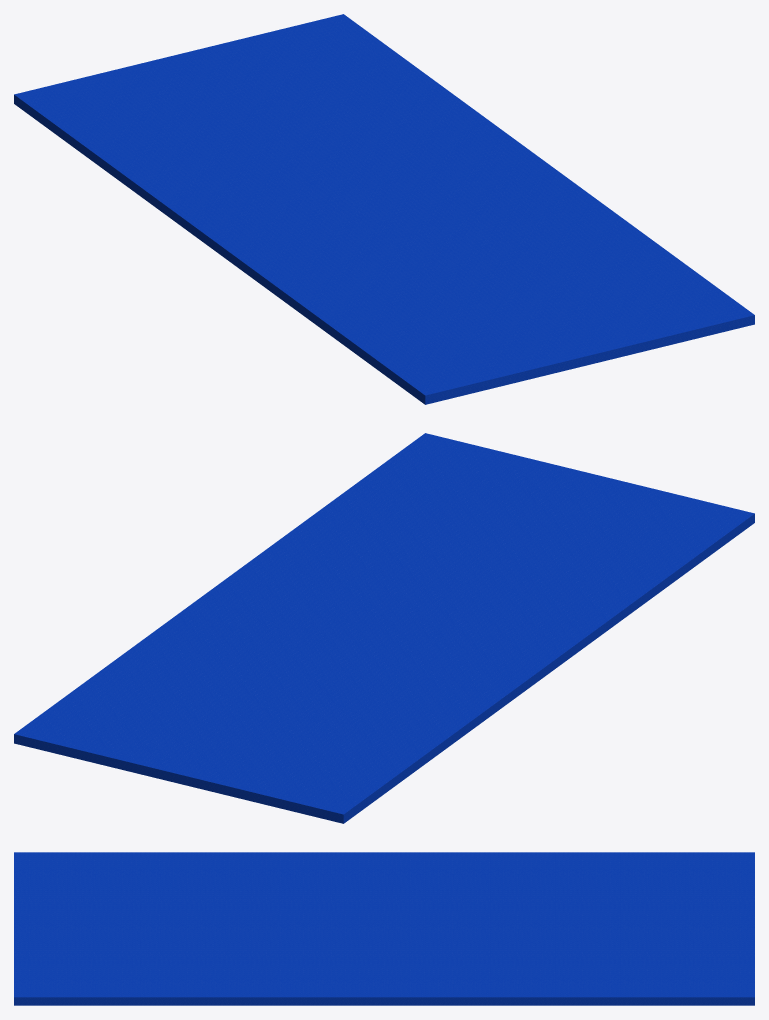
Rendered from DesGr5.glb.
3 renders of one model, top to bottom at view 1: azimuth 30°, elevation 25°; view 2: azimuth 150°, elevation 25°; view 3: azimuth 270°, elevation 25°, orthographic. The views are drawn at different scales.
Parts seen in each view (by area): view 1: DesGr5; view 2: DesGr5; view 3: DesGr5.
Part boxes in pixels (bbox=[...]): DesGr5: bbox=[14, 14, 754, 404]; DesGr5: bbox=[14, 433, 754, 823]; DesGr5: bbox=[14, 852, 754, 1005].
Size of the model in its own units: 9446 by 256 by 20410.
Materials: 1 (1 with a texture image).
